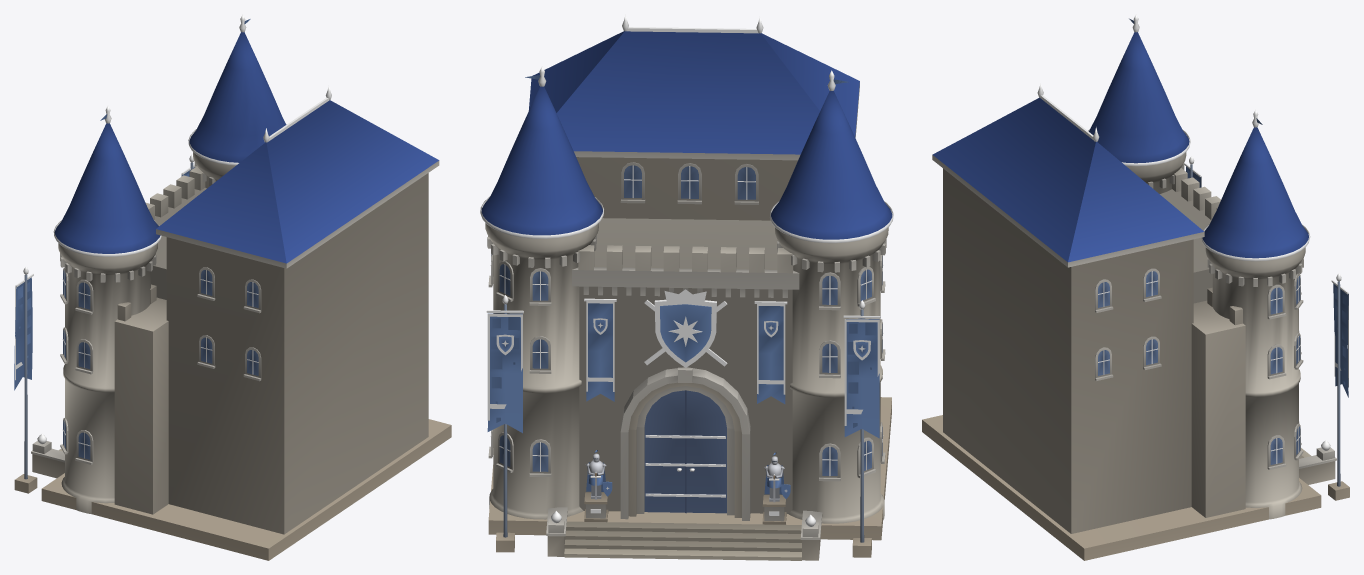
Rendered from knight_hq.glb.
3 renders of one model, left to right at view 1: azimuth 30°, elevation 25°; view 2: azimuth 150°, elevation 25°; view 3: azimuth 270°, elevation 25°, orthographic. The views are drawn at different scales.
Parts seen in each view (by area): view 1: Knight_stone, Knight_roof, Knight_props, Knight_gold; view 2: Knight_stone, Knight_roof, Knight_props, Knight_gold; view 3: Knight_stone, Knight_roof, Knight_props, Knight_gold.
Part boxes in pixels (x1,y1,x2,y2): Knight_stone: (14,152,451,560); Knight_roof: (54,32,439,263); Knight_props: (14,19,258,479); Knight_gold: (15,14,331,458); Knight_stone: (485,82,891,560); Knight_roof: (481,31,892,239); Knight_props: (487,75,882,542); Knight_gold: (480,14,893,526); Knight_stone: (922,152,1349,560); Knight_roof: (932,32,1308,262); Knight_props: (1098,18,1348,486); Knight_gold: (1037,14,1348,463).
Bounding box in the file's own units: 19.61 × 19 × 18.82.
